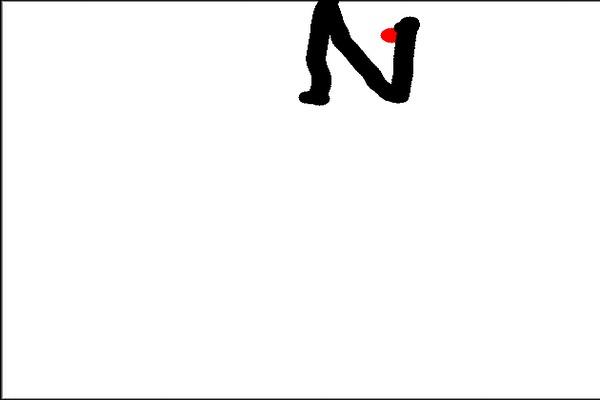N: (294, 0, 428, 113)
